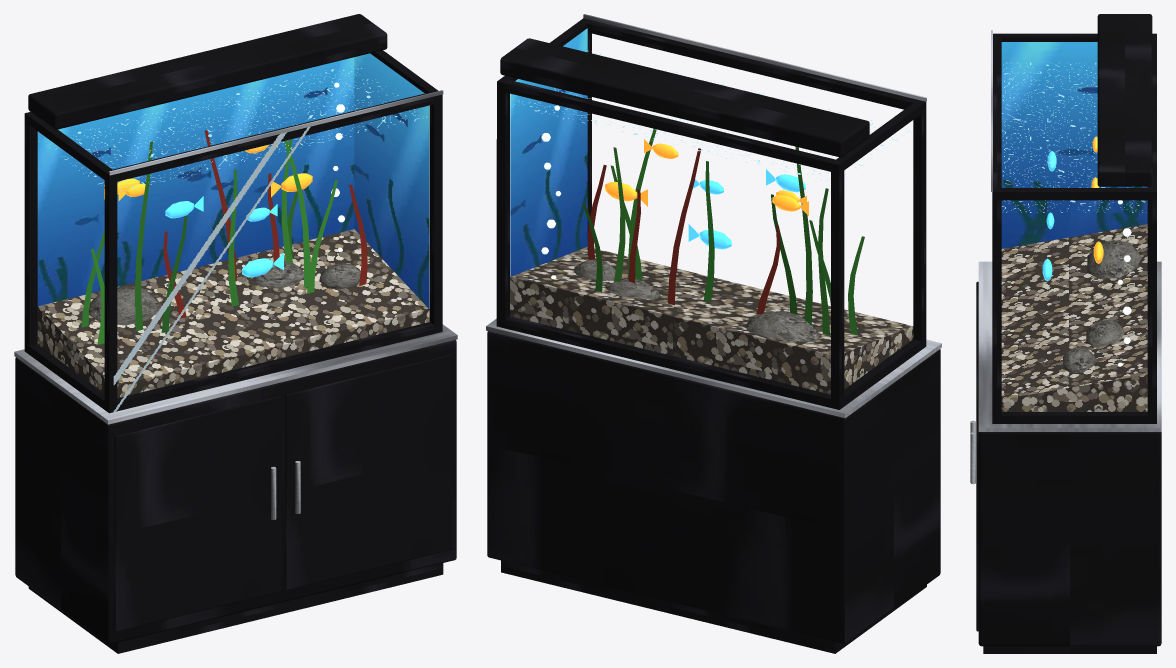
Rendered from prop_aquarium.glb.
3 renders of one model, left to right at view 1: azimuth 30°, elevation 25°; view 2: azimuth 150°, elevation 25°; view 3: azimuth 270°, elevation 25°, orthographic. The views are drawn at different scales.
Visible parts, largest first — view 1: prop; view 2: prop; view 3: prop.
Boxes of the visible parts, x1,y1,x2,y2 form: prop: (14, 14, 457, 653); prop: (486, 14, 941, 653); prop: (970, 14, 1161, 653).
Size of what is drawn, in the model's own units: 0.86 by 1.17 by 0.418.
12 materials, 7 textured.
